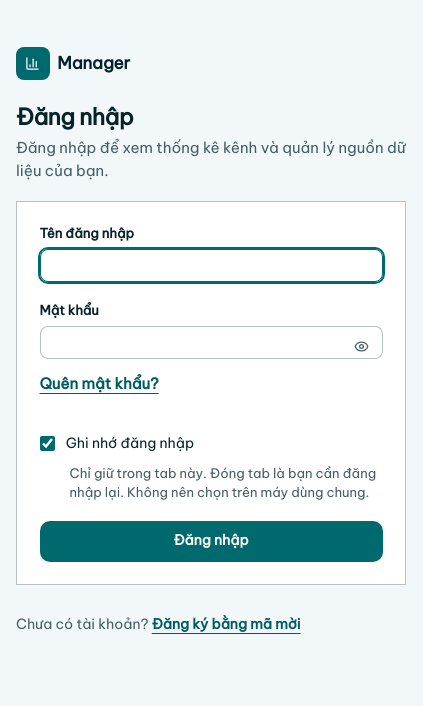
Scenario: LoginPage — lỗi nói rõ cách xử lý, không lộ tài khoản có tồn tại hay không › sai mật khẩu (401): một thông điệp chung cho cả sai tên lẫn sai mật khẩu, chỉ cách sửa
The image size is (423, 706).
Type "alice" into the field labelled "Tên đăng nhập" at (211, 266), box [40,249,382,282]
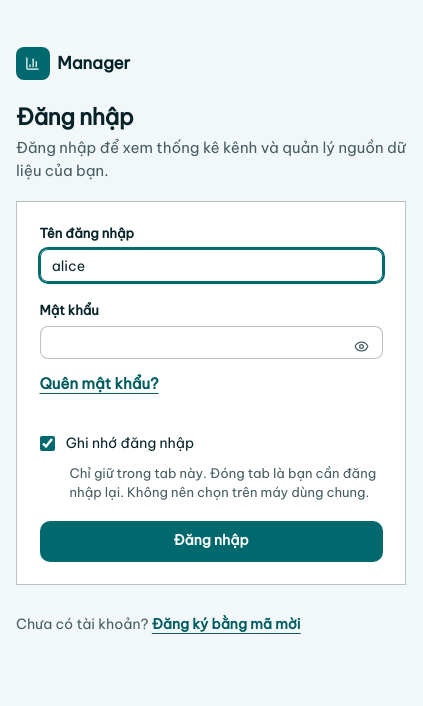
Type "wrong-password" into the password field labelled "Mật khẩu" at (211, 342), box [40,326,382,359]
Then press Enter
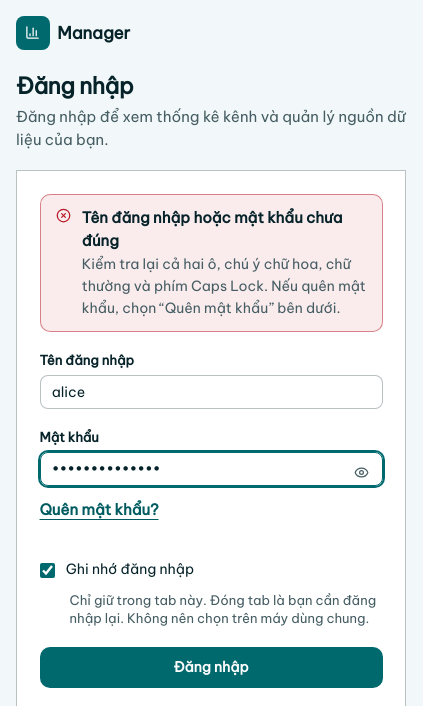
expect the message shows "Tên đăng nhập hoặc mật khẩu chưa đúng": met, box [82,208,342,250]
expect the message shows "Quên mật khẩu": met, box [82,255,366,317]
